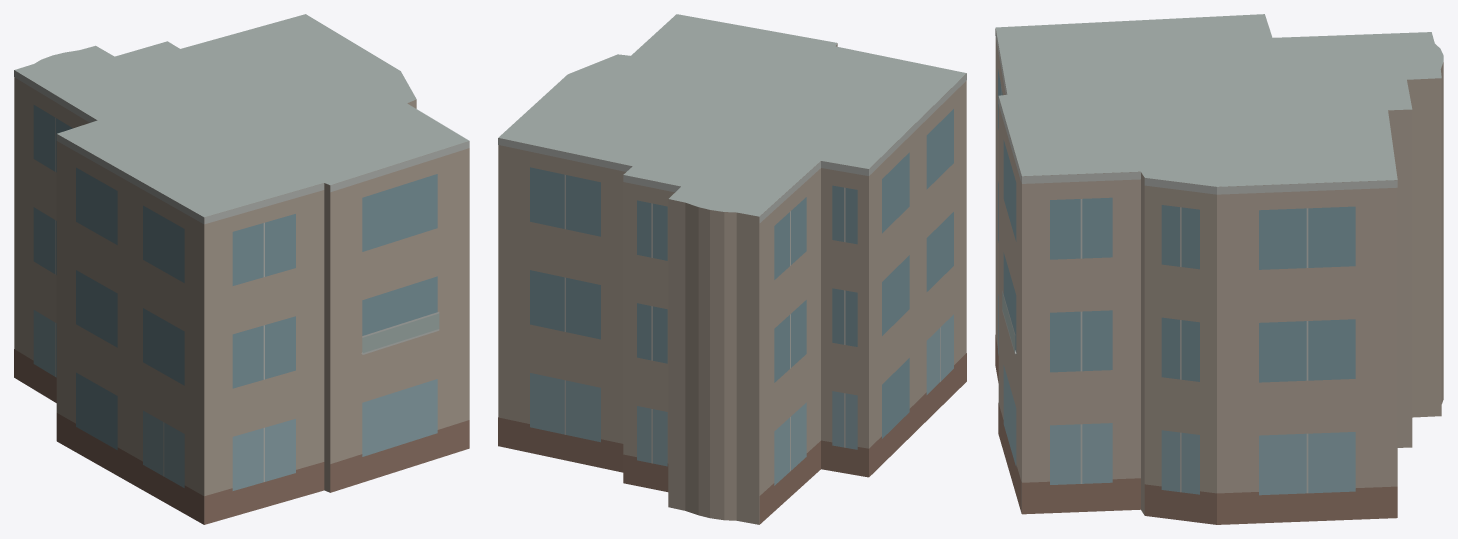
Rendered from survey-upis-32869209.glb.
3 renders of one model, left to right at view 1: azimuth 30°, elevation 25°; view 2: azimuth 150°, elevation 25°; view 3: azimuth 270°, elevation 25°, orthographic. The views are drawn at different scales.
Parts seen in each view (by area): view 1: survey-upis-32869209.tmp; view 2: survey-upis-32869209.tmp; view 3: survey-upis-32869209.tmp.
Part boxes in pixels (x1,y1,x2,y2): survey-upis-32869209.tmp: [14, 14, 469, 524]; survey-upis-32869209.tmp: [498, 14, 966, 524]; survey-upis-32869209.tmp: [995, 14, 1443, 524].
Size of the model in its own units: 11.64 by 10.6 by 12.74.
